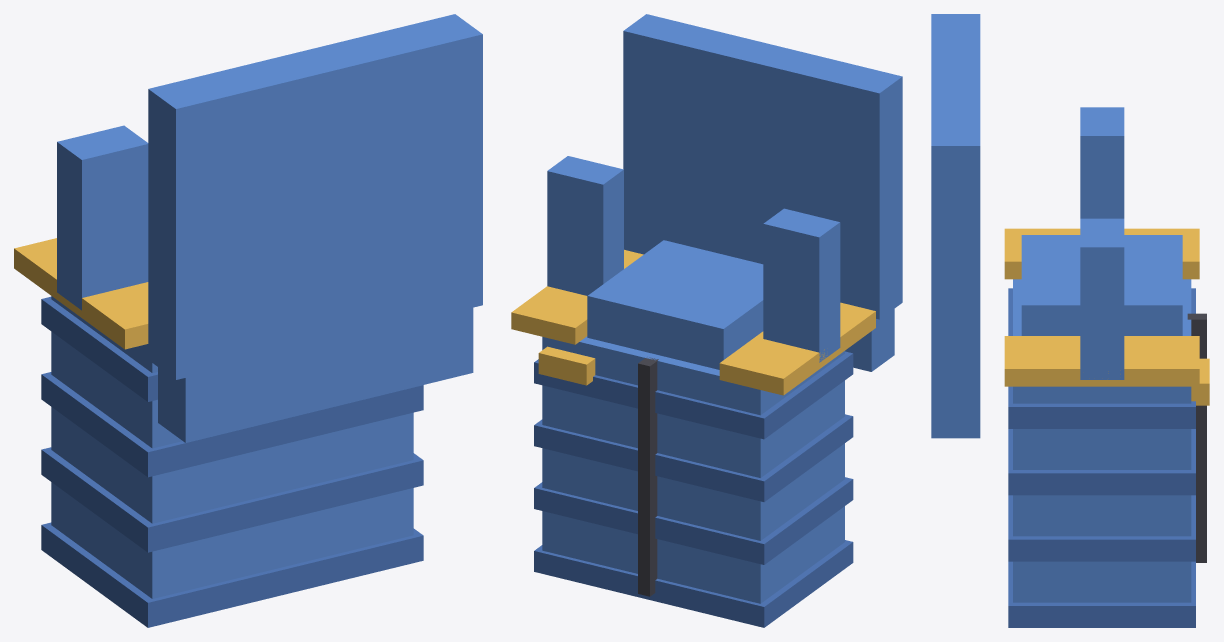
The model's file is esquiador_tronco.glb.
The picture shows the model from 3 angles, left to right: view 1: azimuth 30°, elevation 25°; view 2: azimuth 150°, elevation 25°; view 3: azimuth 270°, elevation 25°; orthographic projection. The views are drawn at different scales.
Parts seen in each view (by area): view 1: esquiador_tronco; view 2: esquiador_tronco; view 3: esquiador_tronco.
Part boxes in pixels (left/top/right/bottom): esquiador_tronco: left=14, top=14, right=482, bottom=627; esquiador_tronco: left=511, top=14, right=902, bottom=627; esquiador_tronco: left=931, top=14, right=1209, bottom=627.
Bounding box in the file's own units: 0.68 × 1.1 × 0.57.
